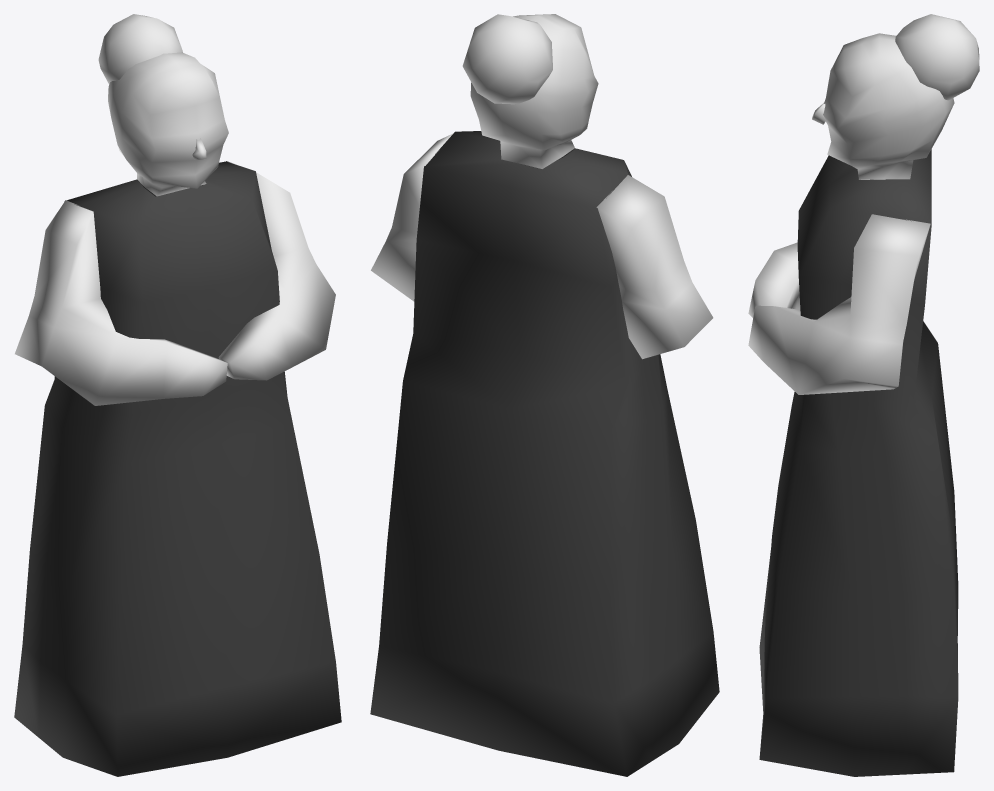
The model's file is elizabeth.fbx.
3 renders of one model, left to right at view 1: azimuth 30°, elevation 25°; view 2: azimuth 150°, elevation 25°; view 3: azimuth 270°, elevation 25°, orthographic. The views are drawn at different scales.
Parts seen in each view (by area): view 1: torso, hands, head; view 2: torso, hands, head; view 3: torso, hands, head.
Boxes of the visible parts, x1,y1,x2,y2 form: torso: (14,161,341,776); hands: (15,161,335,405); head: (98,14,228,196); torso: (370,131,719,776); hands: (371,133,713,359); head: (462,14,598,168); torso: (759,149,958,776); hands: (748,179,930,394); head: (812,14,979,179).
Size of the model in its own units: 149 by 330 by 98.68.
Materials: 1 (1 with a texture image).
